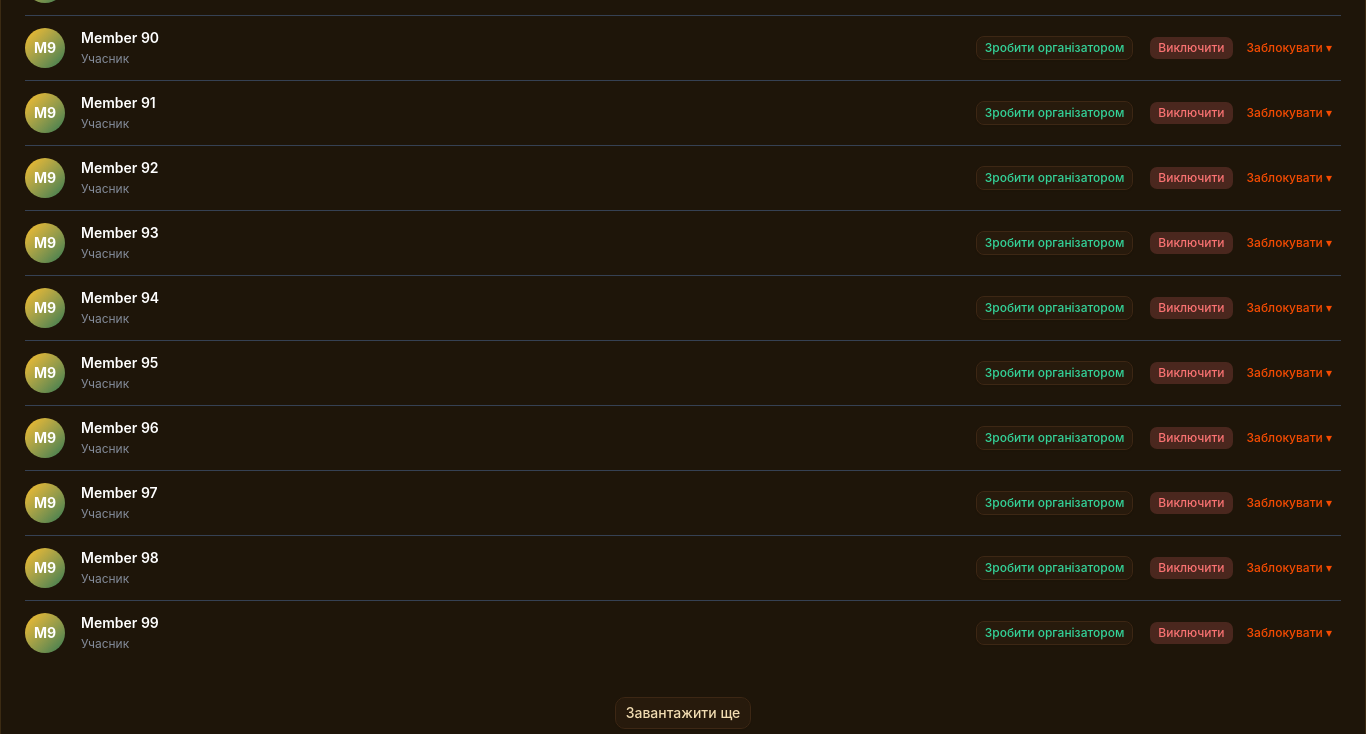
Test: MemberList with role controls › kicking the only member of the last page leaves nothing more to load and asks for nothing
(page scrolled)
Click the button "Завантажити ще" at (683, 713), box left=615, top=697, right=751, bottom=729
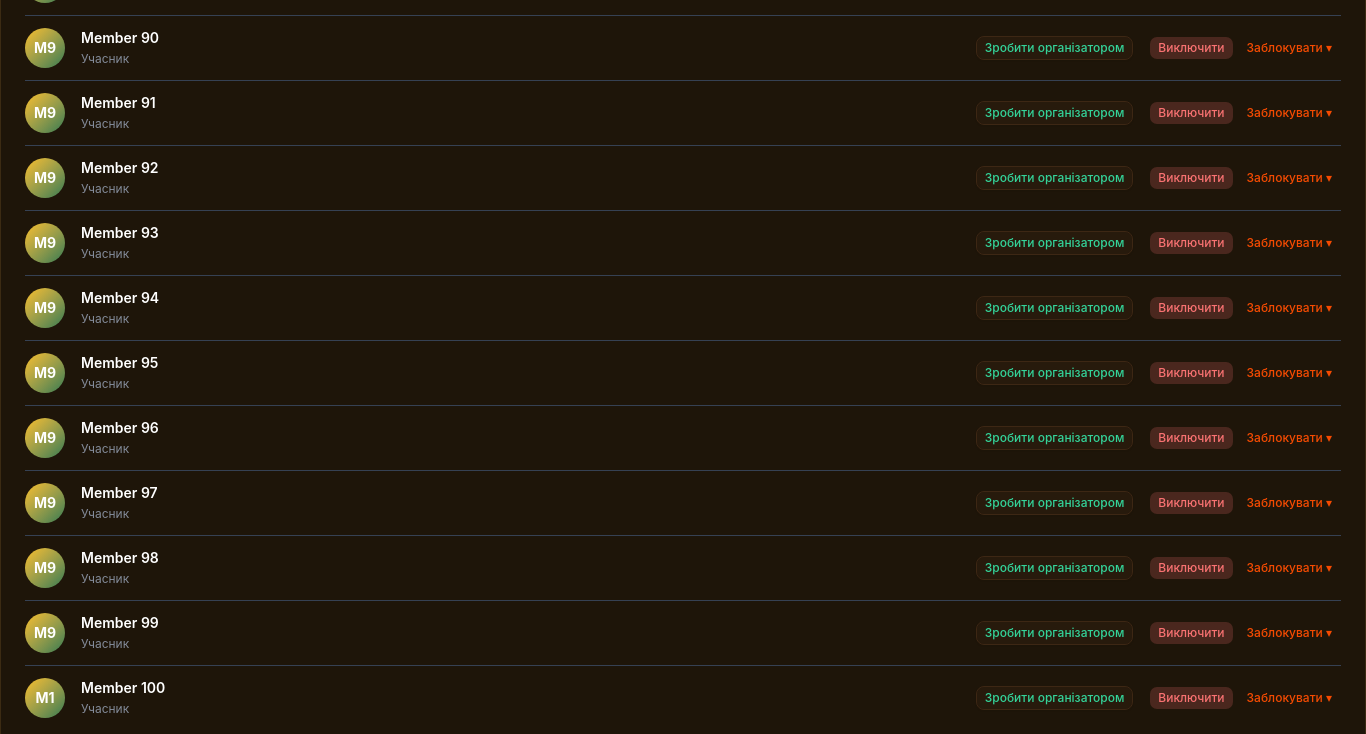
Check: the text "Member 100" is shown, box left=81, top=679, right=165, bottom=696
Click the button "Виключити" in the row of "Member 100" at (1191, 698), box left=1149, top=686, right=1234, bottom=710
(page scrolled)
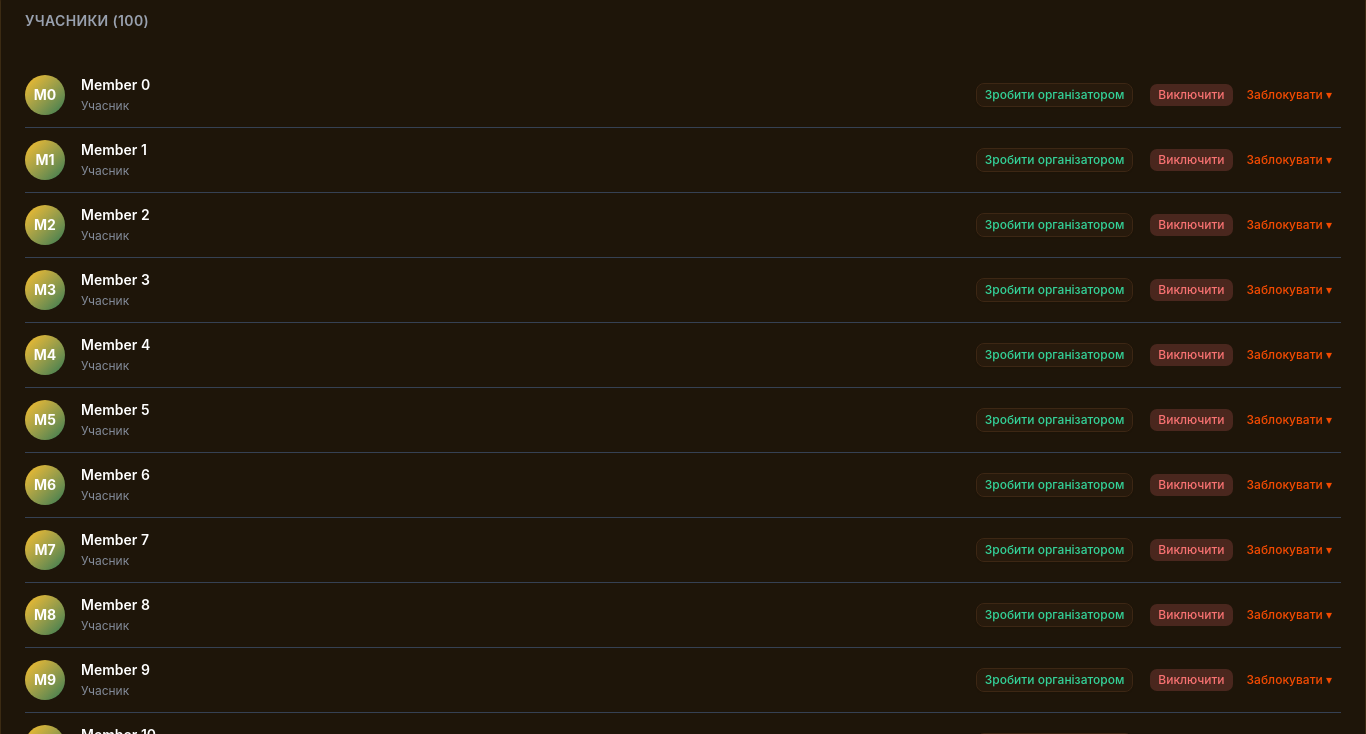
Check: the button "Завантажити ще" is not shown
Check: the text "Member 100" is gone
Check: the heading "Учасники (100)" is shown, box left=25, top=12, right=149, bottom=29
